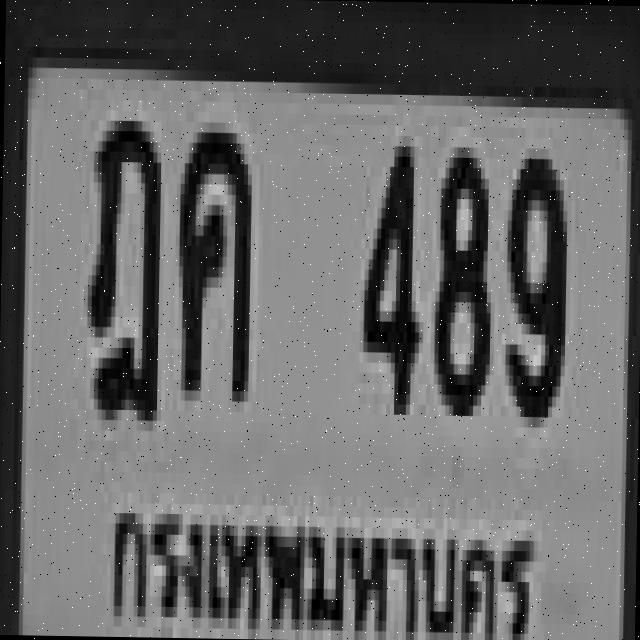13KhorKhwai: (172, 121, 248, 391)
23DorChaDa: (81, 109, 158, 410)
4: (358, 135, 418, 404)
8: (430, 137, 490, 406)
9: (500, 148, 564, 416)
Bangkok: (99, 469, 540, 640)
